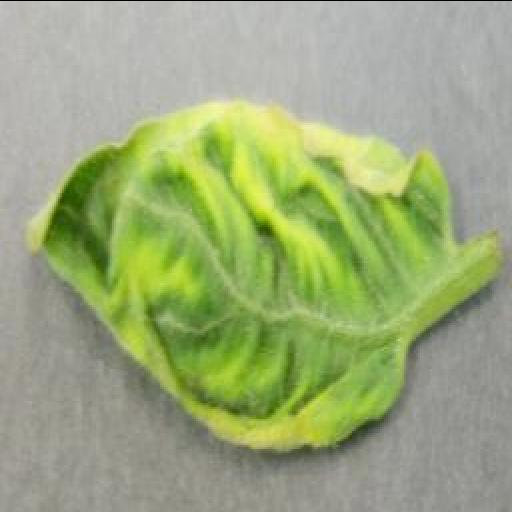disease_tomato: (25, 97, 455, 450)
